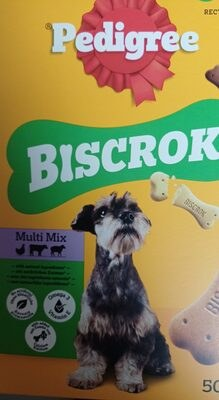pedigree biscotti multi mix: (11, 20, 208, 380)
